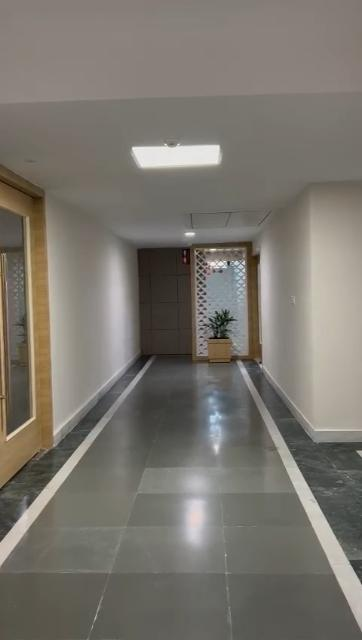door: (1, 174, 53, 472)
floor: (0, 355, 359, 639)
object: (203, 308, 240, 376)
wall: (255, 183, 362, 437), (46, 197, 140, 425)
